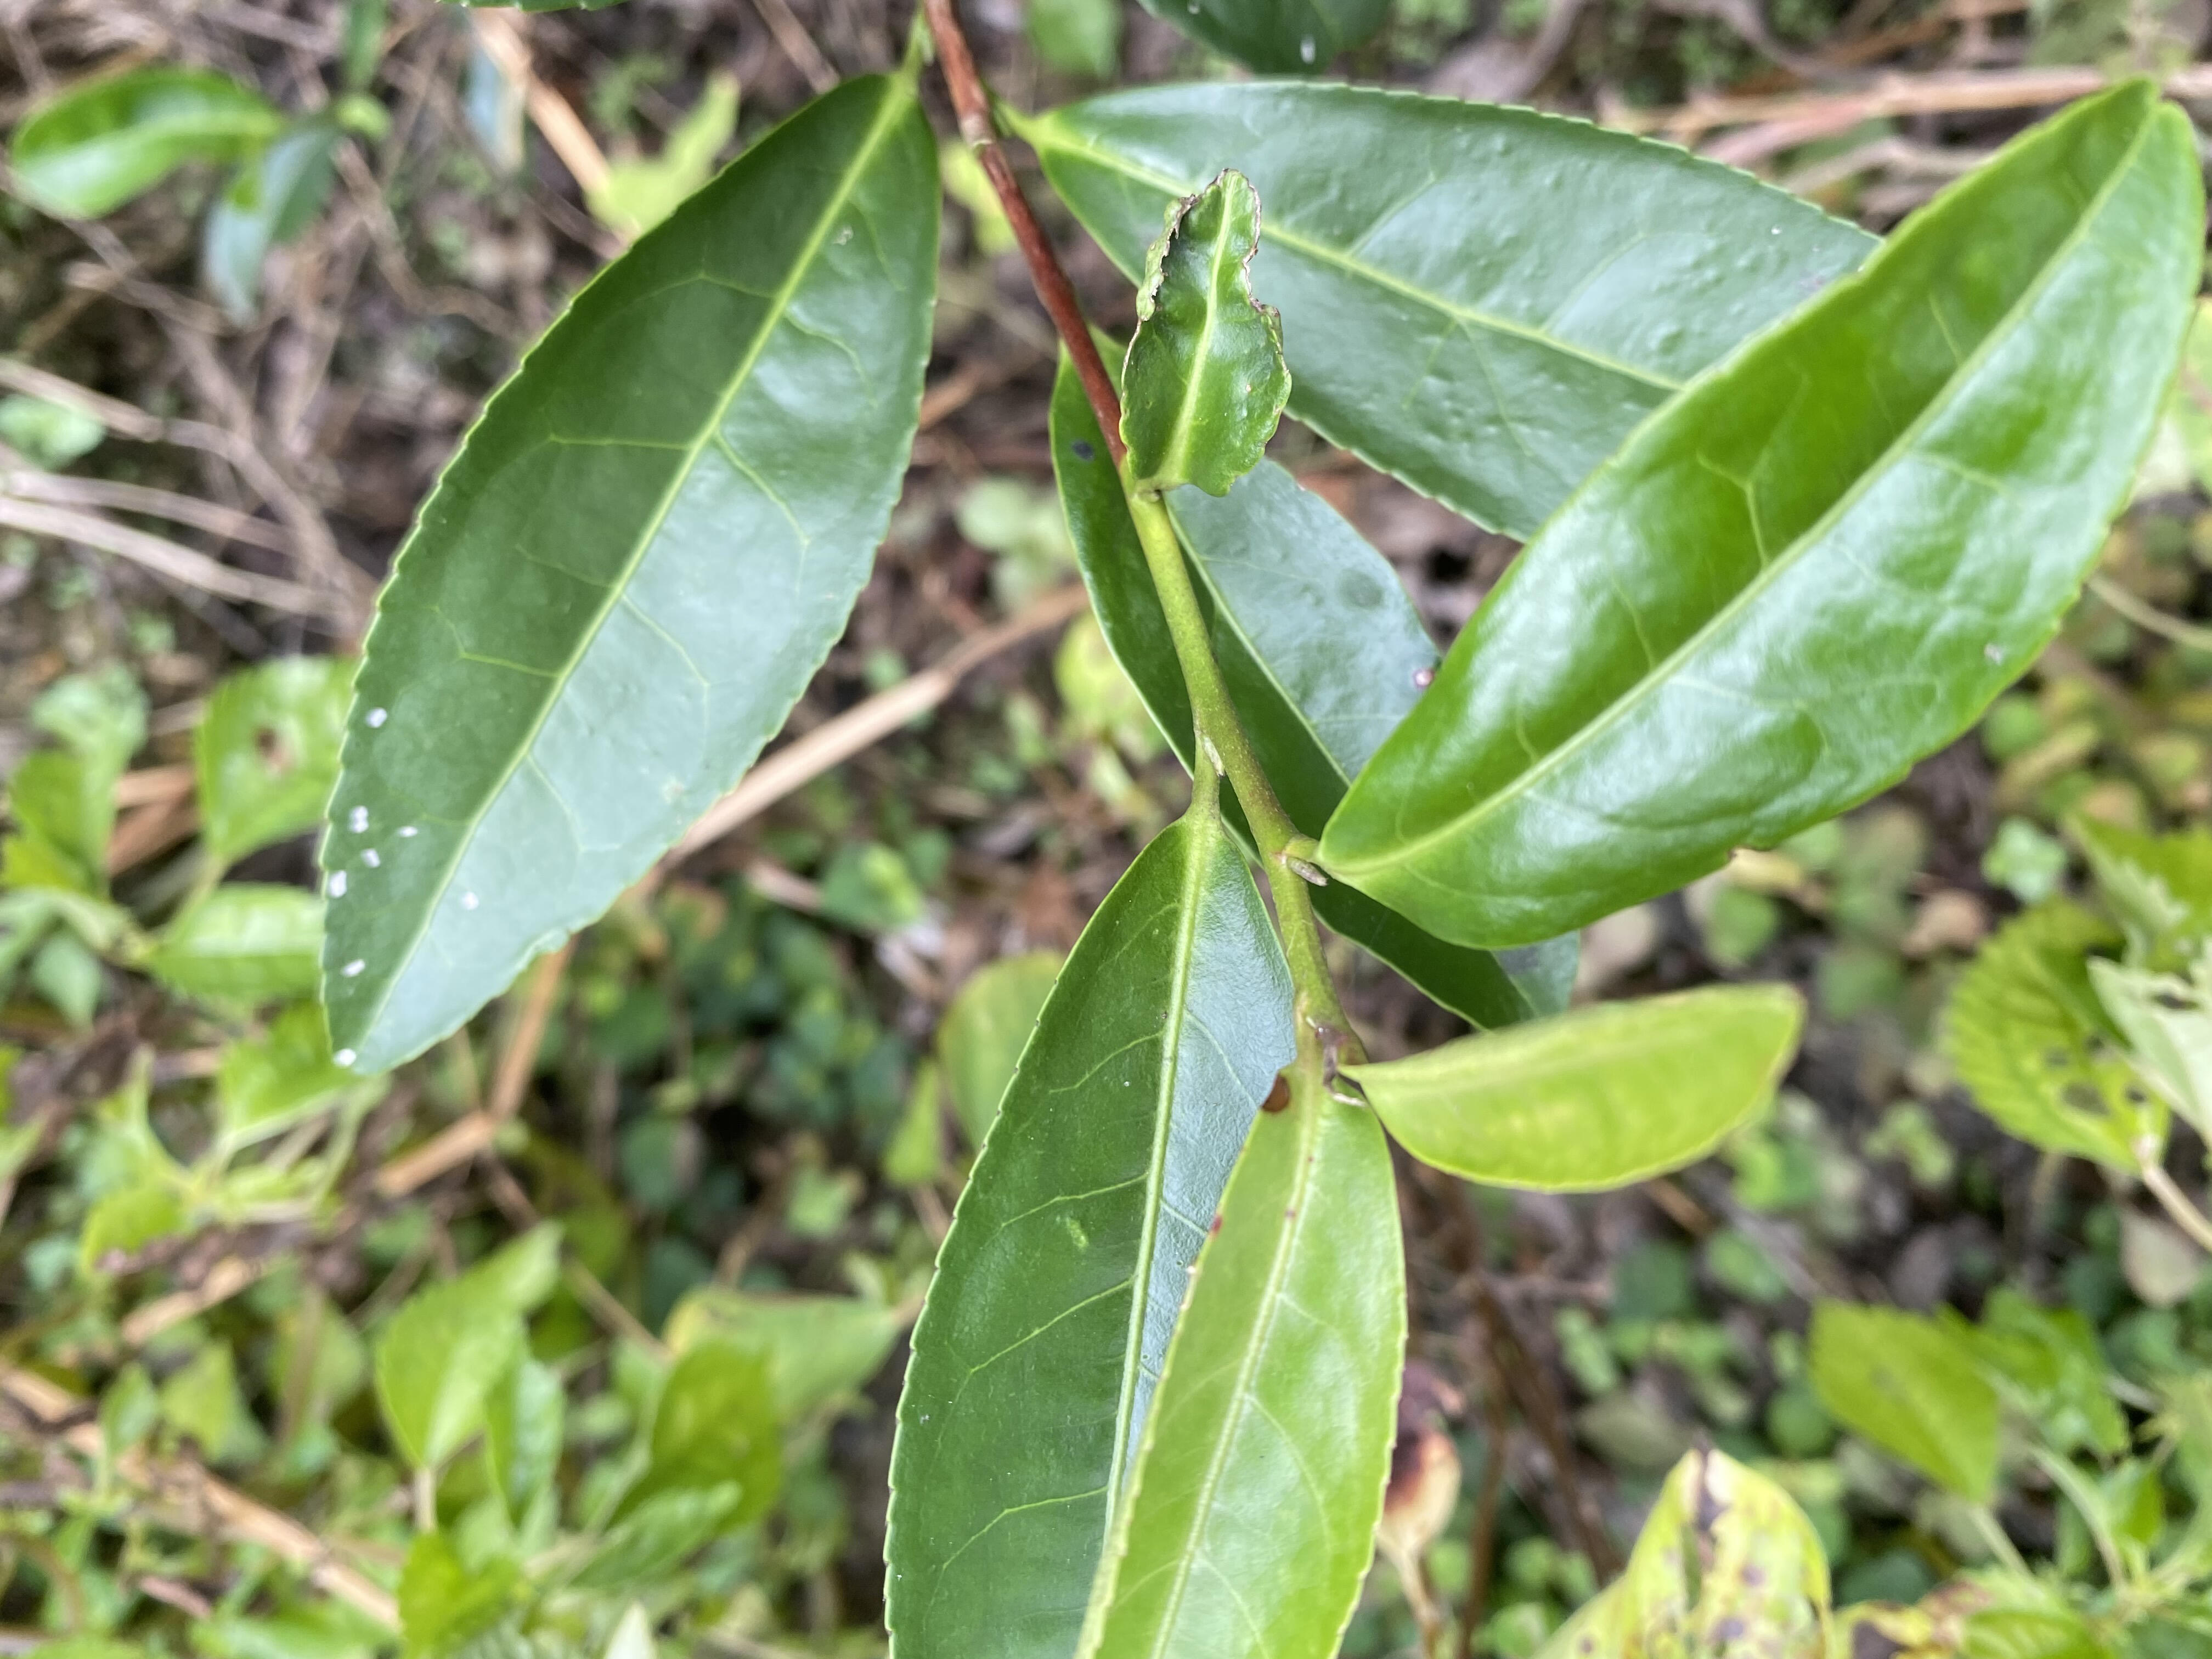chihuo_high: (1115, 166, 1298, 498)
healthy: (1317, 77, 2207, 953)
tanju_low: (314, 70, 944, 1075), (1089, 1054, 1413, 1656)
